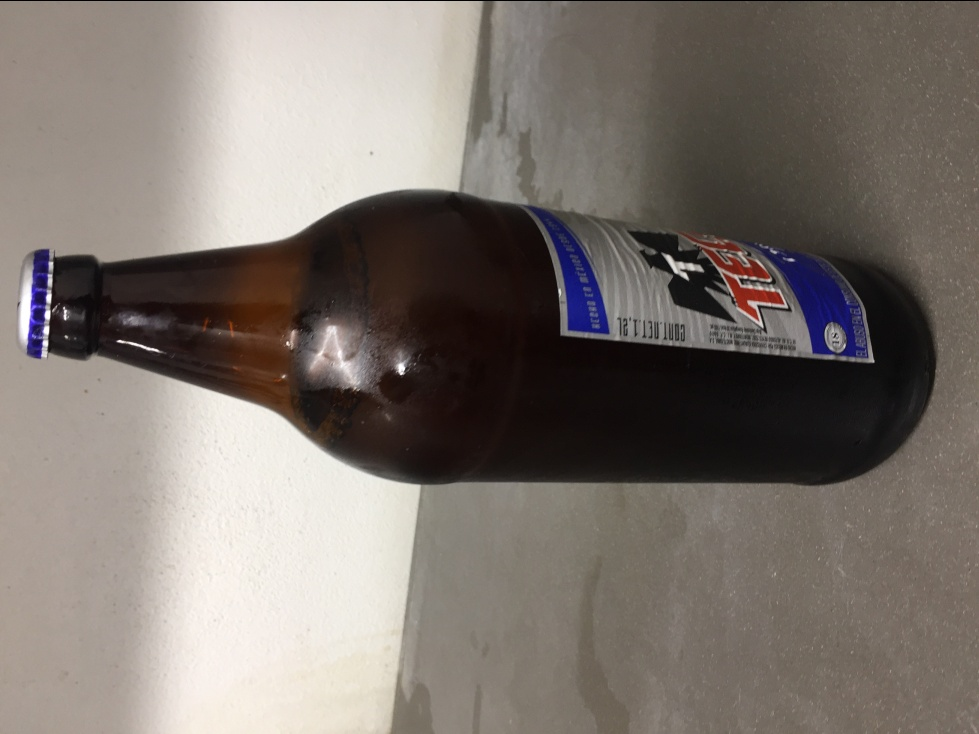tecateC: (12, 190, 936, 496)
